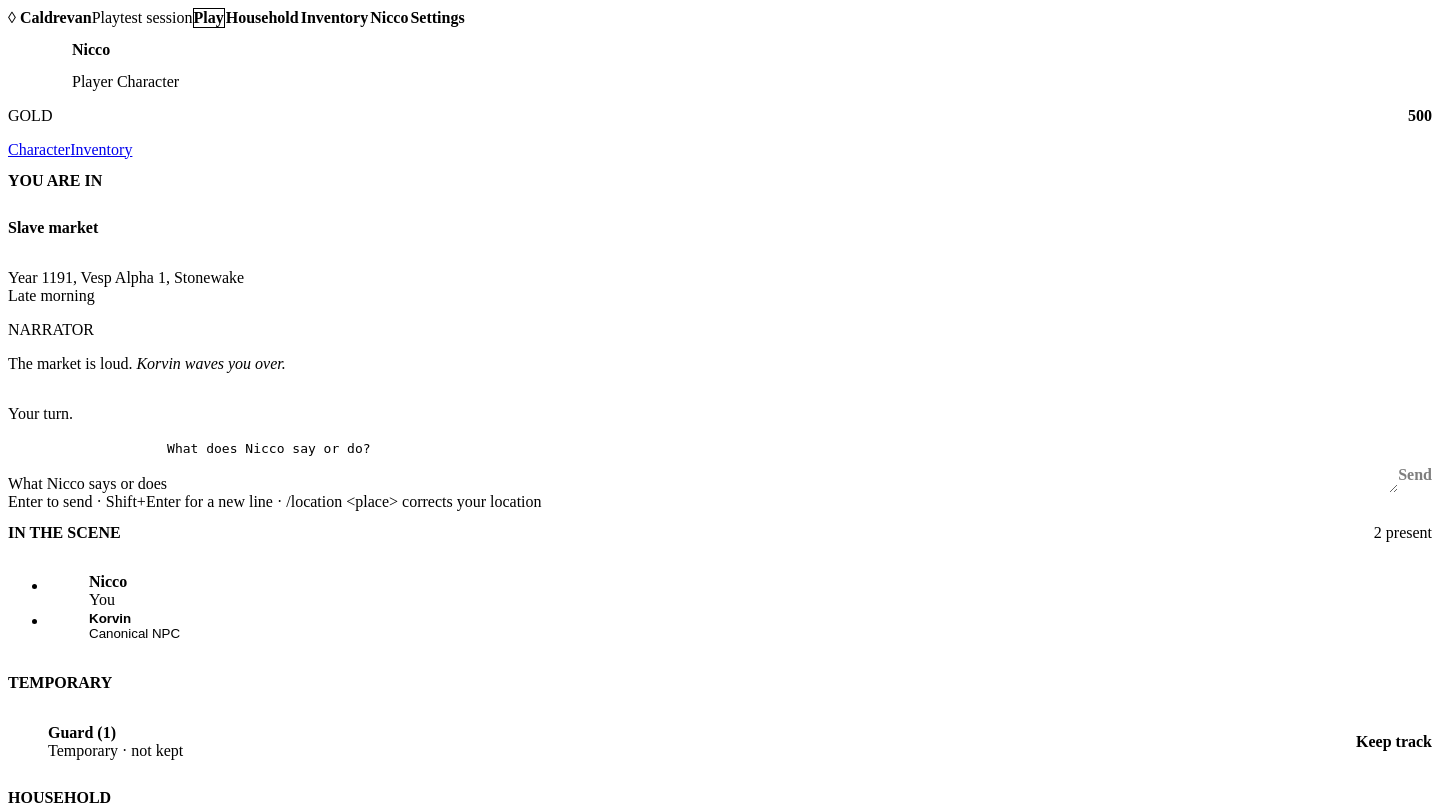
Scenario: Keep track › a refusal shows the server's sentence at that person and keeps the row
Step 1. Click the button with aria-label "Keep track of Guard (1)" → (1394, 742), box x1=1356 y1=728 x2=1432 y2=756
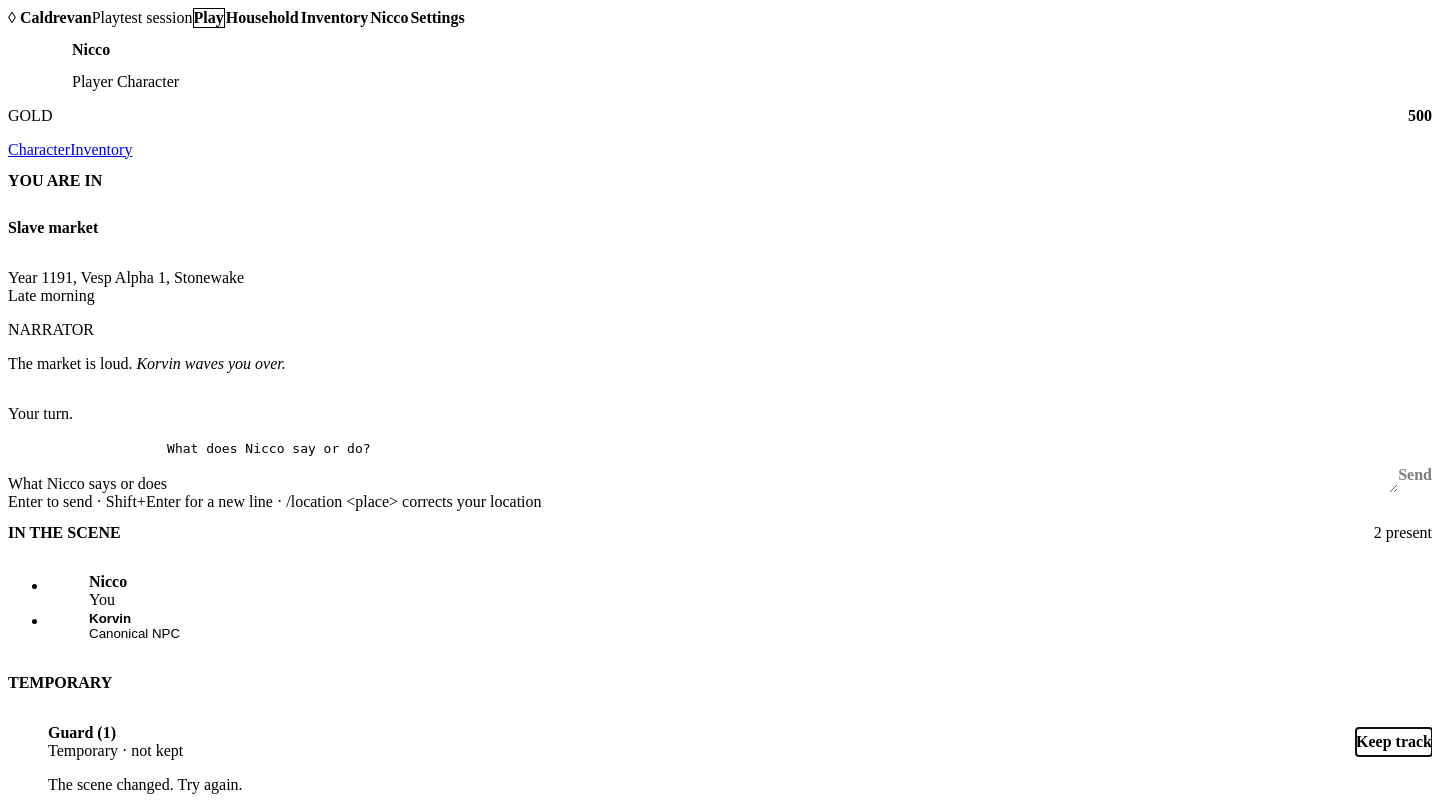
Check: the text "Guard (1)" is shown, box x1=48 y1=724 x2=116 y2=741
Check: the message "The scene changed. Try again." is shown, box x1=48 y1=776 x2=243 y2=793
